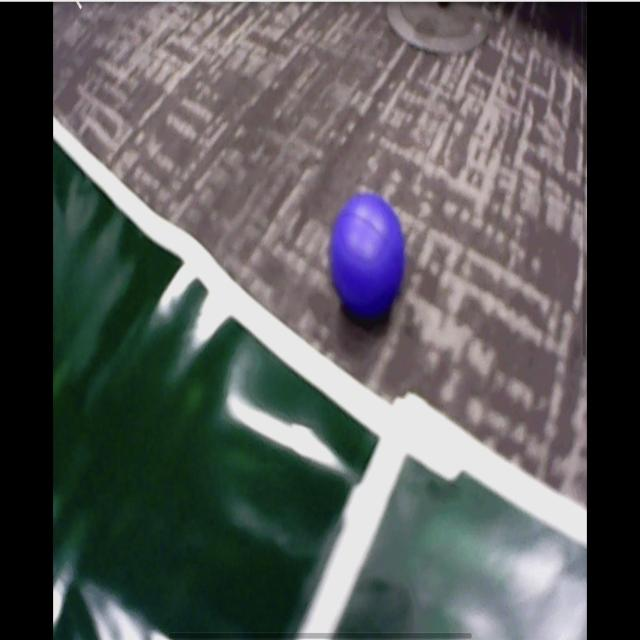ball: (331, 194, 406, 317)
